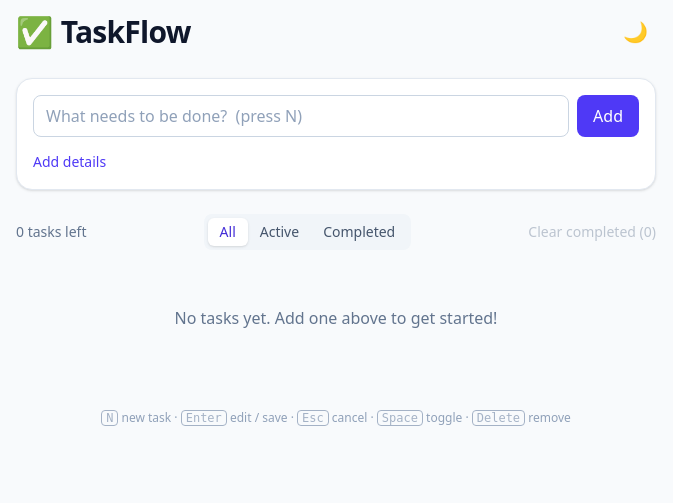
Scenario: TaskFlow app › toggles, filters, and clears completed tasks
Type "One" into the field named "New task" at [301, 116], box 33,95 -> 569,137
Then press Enter
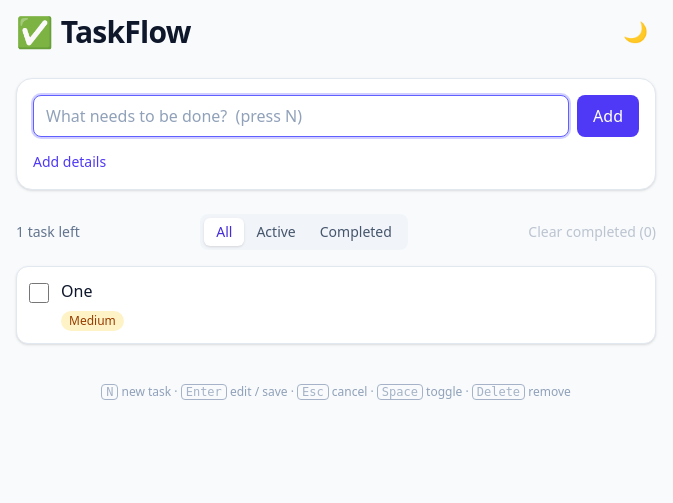
Type "Two" into the field named "New task" at [301, 116], box 33,95 -> 569,137
Then press Enter
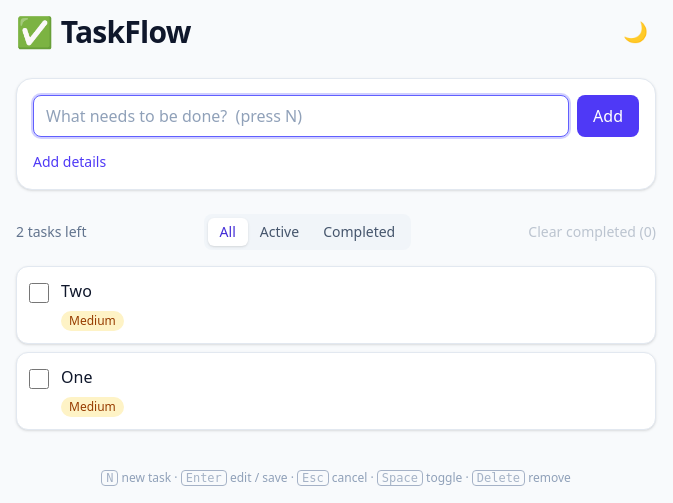
Click the checkbox named "Mark \"One\" as complete" at [39, 379], box 29,369 -> 49,389
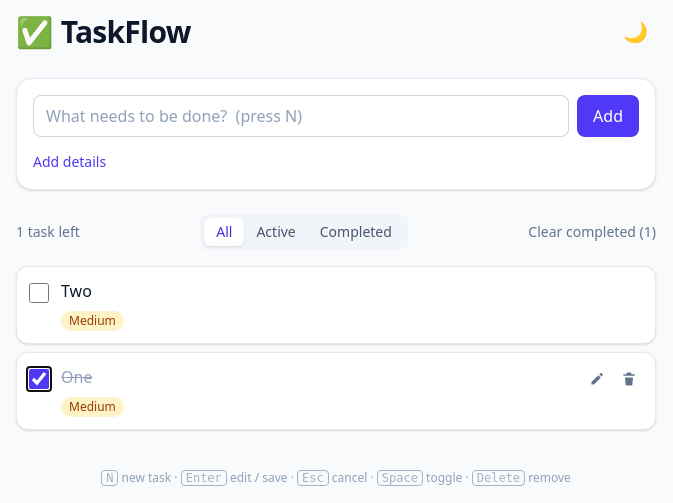
expect the text "1 task left" is shown: met, box 16,222 -> 80,242
Click the button "Active" at [276, 232], box 244,218 -> 308,246
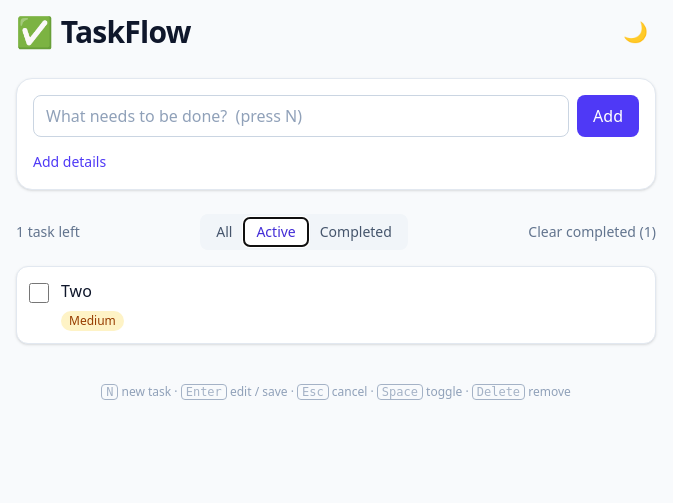
expect the text "Two" is shown: met, box 61,280 -> 92,302
Click the button "Completed" at [356, 232], box 308,218 -> 404,246
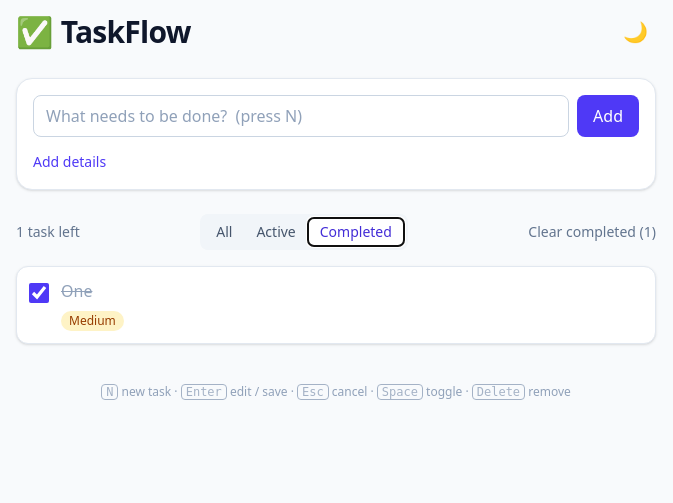
expect the text "One" is shown: met, box 61,280 -> 92,302
Click the button "Clear completed (1)" at [592, 232], box 528,222 -> 656,242
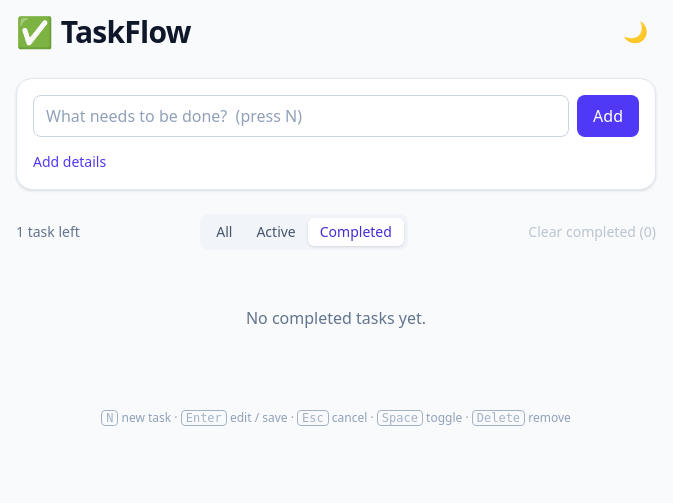
expect the text "No completed tasks yet." is shown: met, box 246,307 -> 426,329
